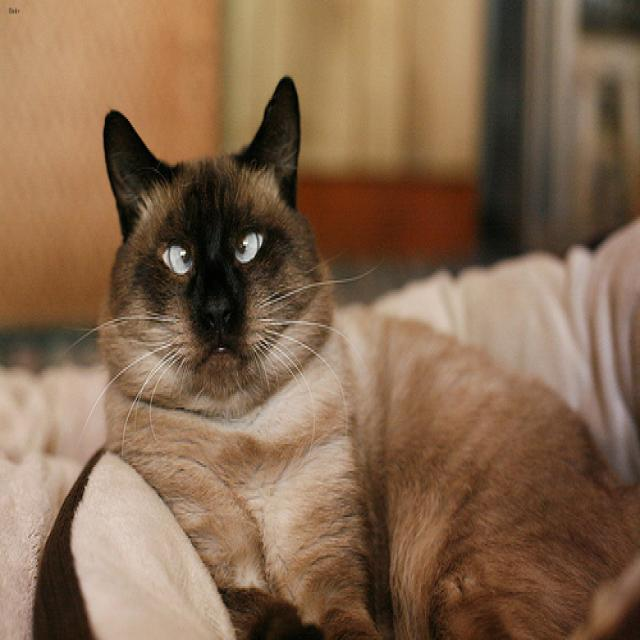Siamese: (96, 72, 319, 403)
